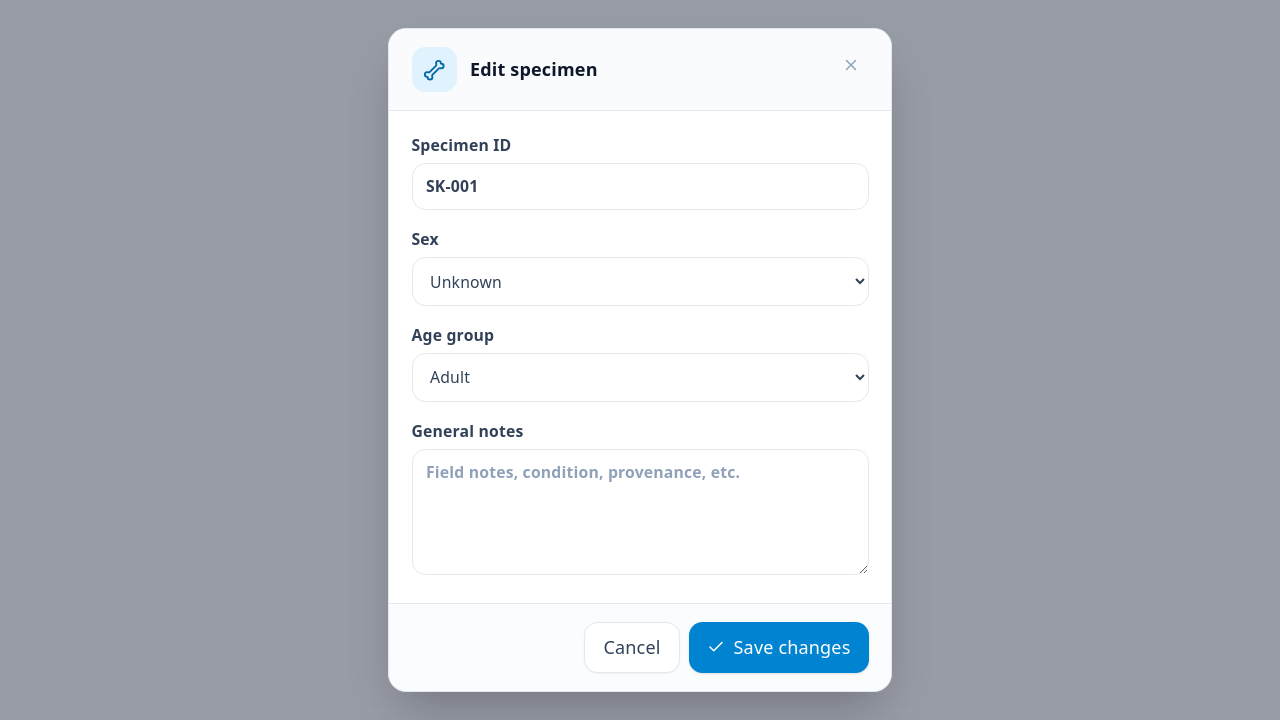
Test case: SpecimenEditPopup › refuses an ID another specimen in the context already has
The image size is (1280, 720).
Replace the text in the field labelled "Specimen ID" with "sk-002": (640, 187) [412,163,868,210]
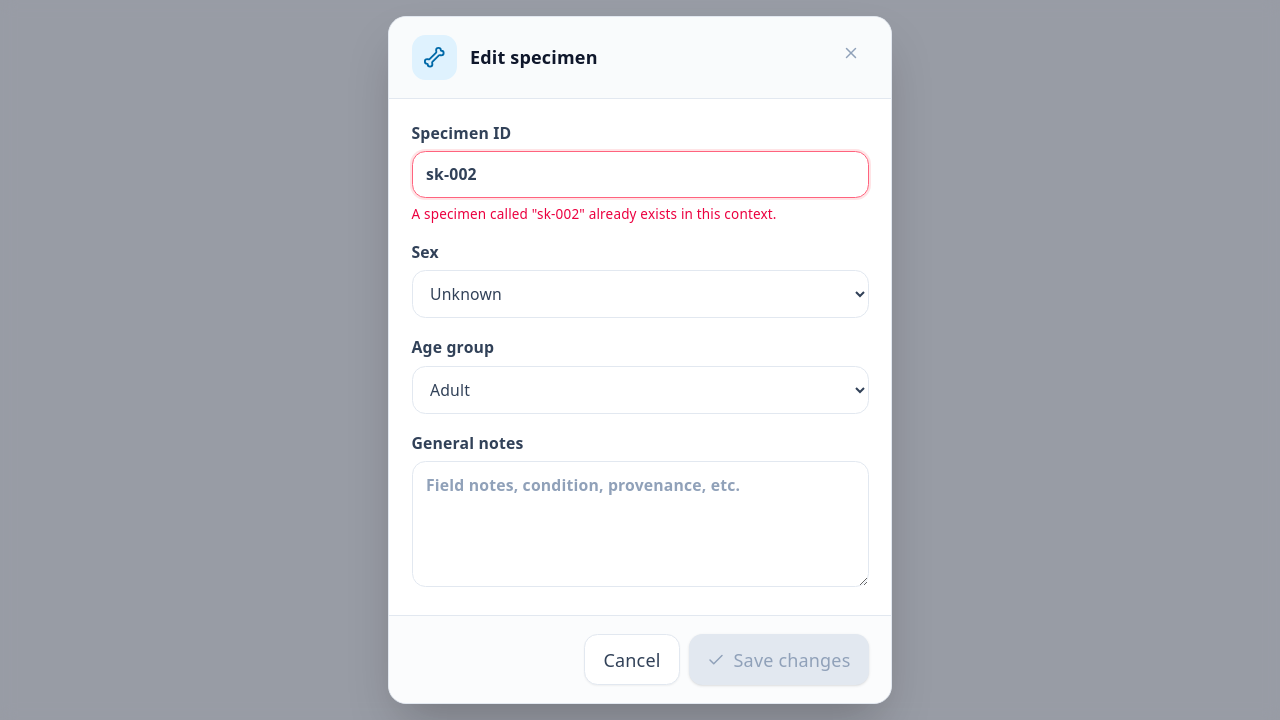
Expected: the button "Save changes" is disabled, [688,634,868,685]
Expected: the text "A specimen called \"sk-002\" already exists in this context." is shown, [412,205,777,223]
